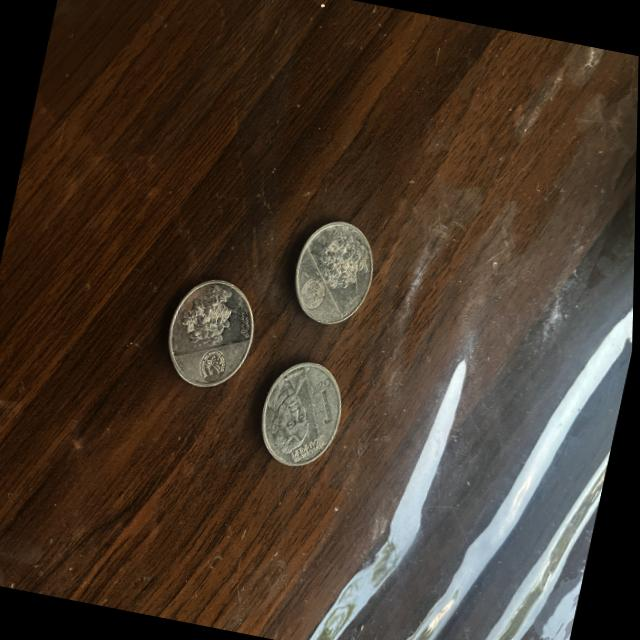1_New_Back: (175, 274, 247, 352), (308, 224, 379, 300)
1_New_Front: (300, 372, 348, 432)
